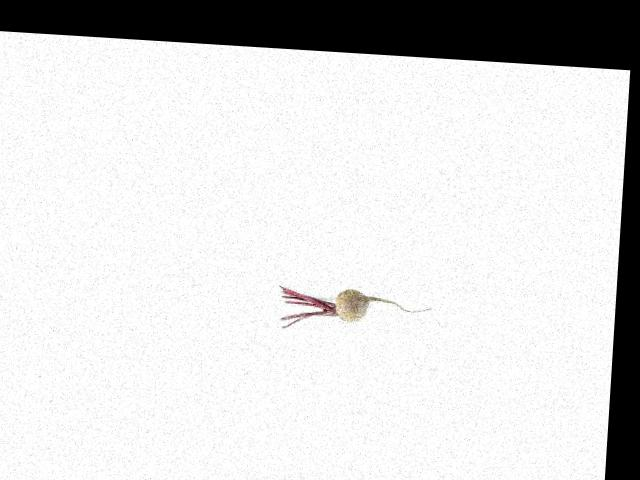beet: (278, 284, 433, 335)
